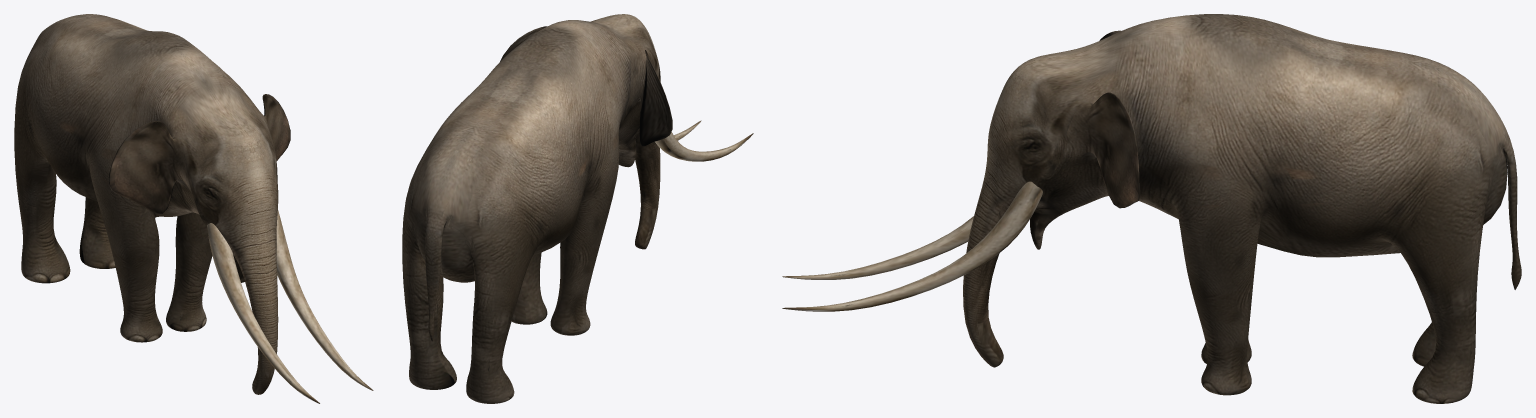
Rendered from 07 Stegodon (ช้างสเตโกดอน).fbx.
3 renders of one model, left to right at view 1: azimuth 30°, elevation 25°; view 2: azimuth 150°, elevation 25°; view 3: azimuth 270°, elevation 25°, orthographic. The views are drawn at different scales.
Parts seen in each view (by area): view 1: Cube, Cube.001; view 2: Cube, Cube.001; view 3: Cube, Cube.001.
Boxes of the visible parts, x1=… form: Cube: x1=14, y1=14, x2=290, y2=394; Cube.001: x1=207, y1=210, x2=373, y2=403; Cube: x1=402, y1=14, x2=672, y2=403; Cube.001: x1=655, y1=120, x2=753, y2=161; Cube: x1=963, y1=14, x2=1521, y2=403; Cube.001: x1=782, y1=181, x2=1042, y2=311.
Size of the model in its own units: 576 by 882 by 1667.
1 material, 1 textured.
